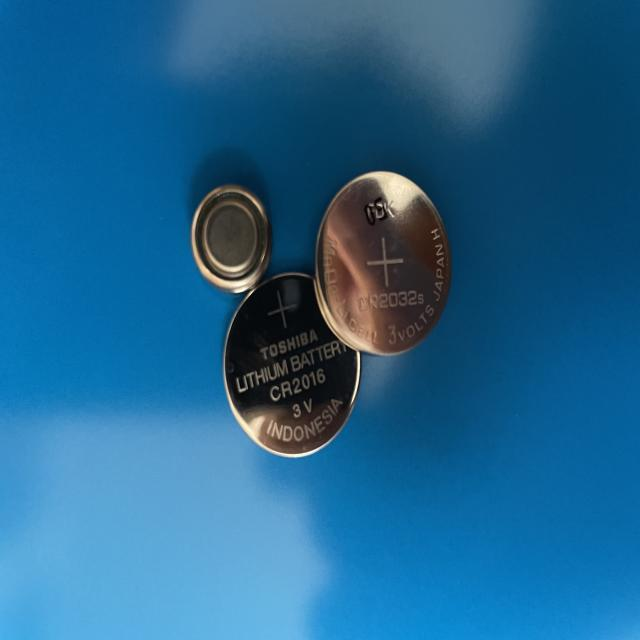COIN: (222, 270, 363, 461), (314, 168, 452, 357), (190, 182, 273, 294)
